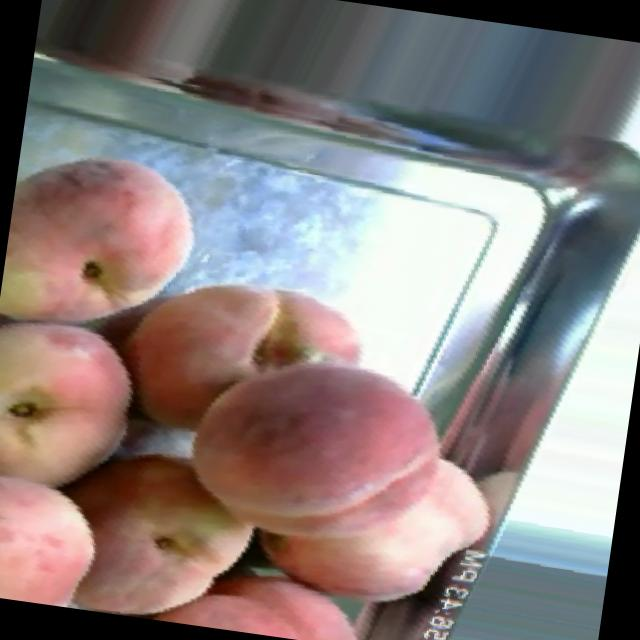Fruit: (142, 313, 527, 640), (96, 245, 392, 451), (36, 409, 291, 635), (0, 126, 221, 352), (0, 302, 166, 518), (0, 448, 128, 613)
